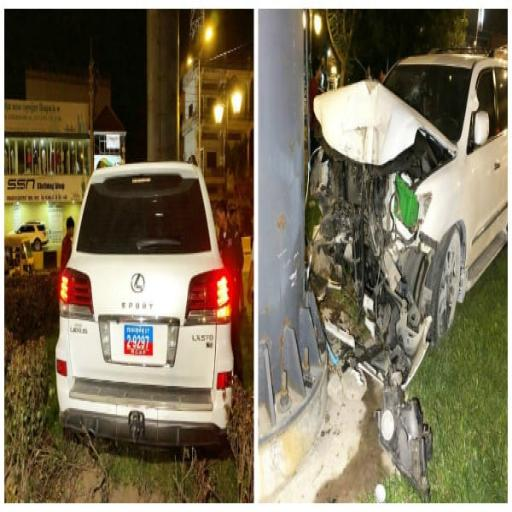Plate Number: (124, 325, 152, 356)
